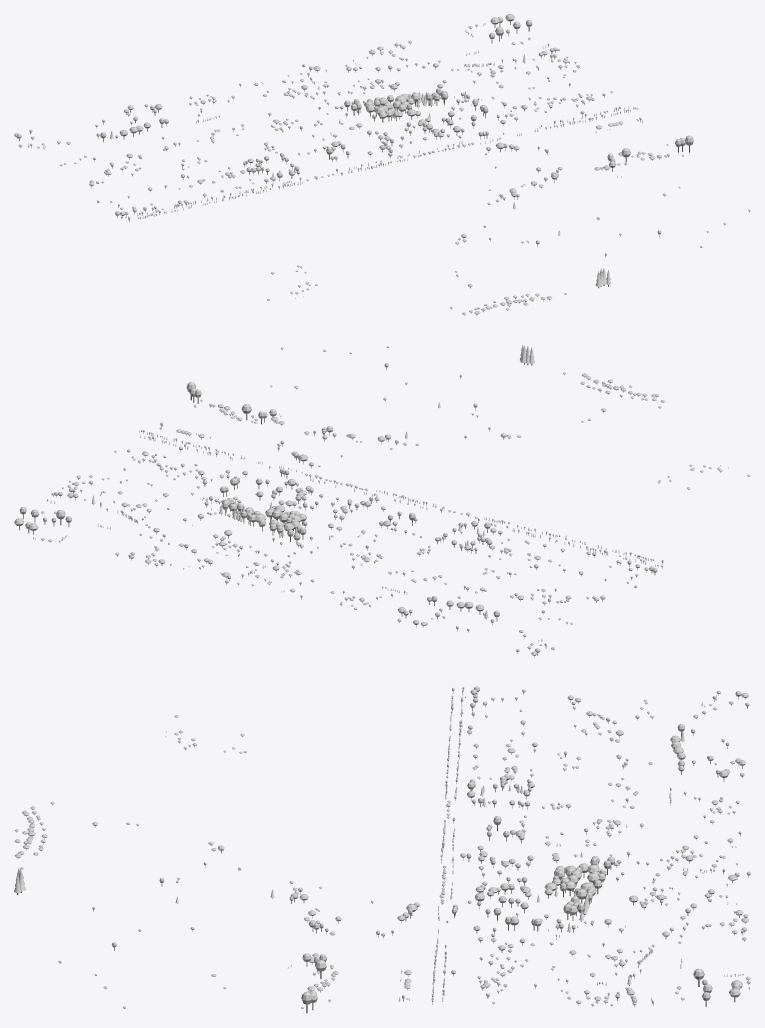
File: stromy.glb
3 views of the same model, one above another, from view 1: azimuth 30°, elevation 25°; view 2: azimuth 150°, elevation 25°; view 3: azimuth 270°, elevation 25° (orthographic). The views are drawn at different scales.
Visible parts, largest first — view 1: Stromy_Listnate_02_03, Stromy_Ihlicnate_02_03; view 2: Stromy_Listnate_02_03, Stromy_Ihlicnate_02_03; view 3: Stromy_Listnate_02_03, Stromy_Ihlicnate_02_03.
Part boxes in pixels (<box>): Stromy_Listnate_02_03: <box>14,14,750,315</box>; Stromy_Ihlicnate_02_03: <box>28,24,643,298</box>; Stromy_Listnate_02_03: <box>14,346,750,657</box>; Stromy_Ihlicnate_02_03: <box>35,345,728,648</box>; Stromy_Listnate_02_03: <box>14,686,750,1013</box>; Stromy_Ihlicnate_02_03: <box>14,692,731,1004</box>.
Size of the model in its own units: 1008 by 42.56 by 1006.
